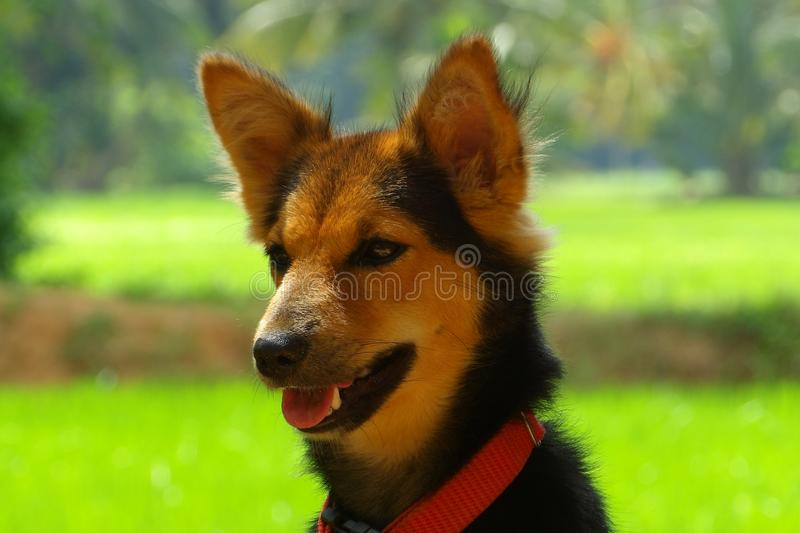Dog: (160, 22, 681, 533)
